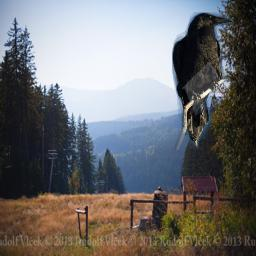Crow: (172, 12, 233, 150)
